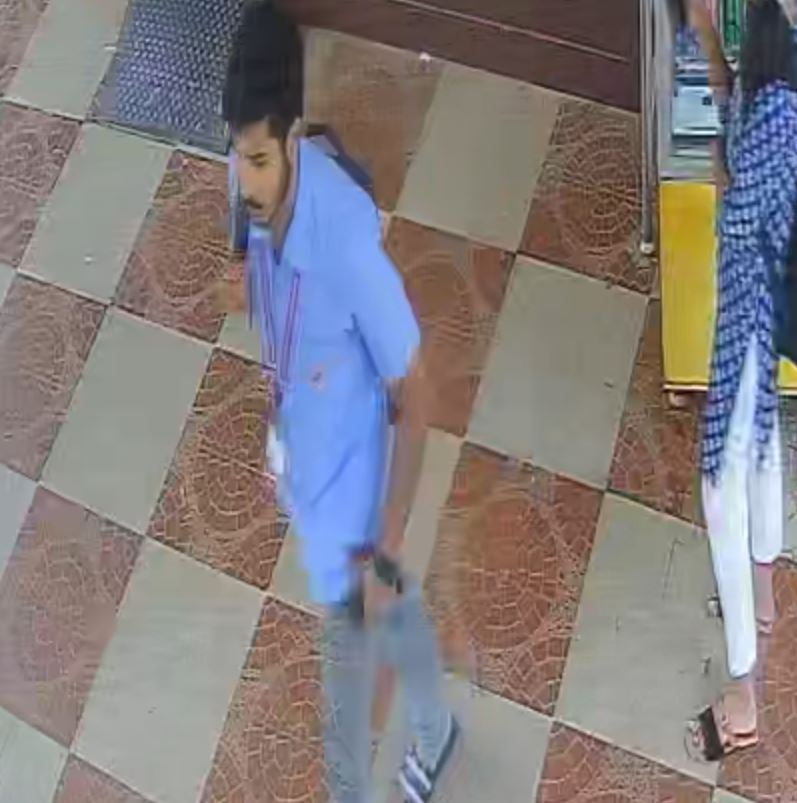intruder: (195, 10, 482, 785)
